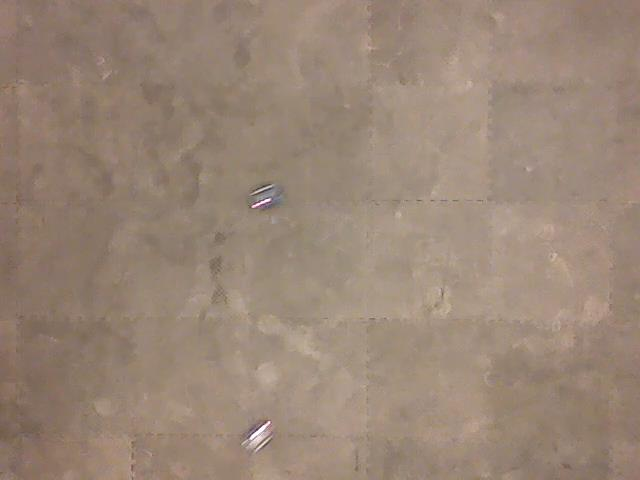Agent: (238, 417, 276, 456), (244, 181, 286, 213)
